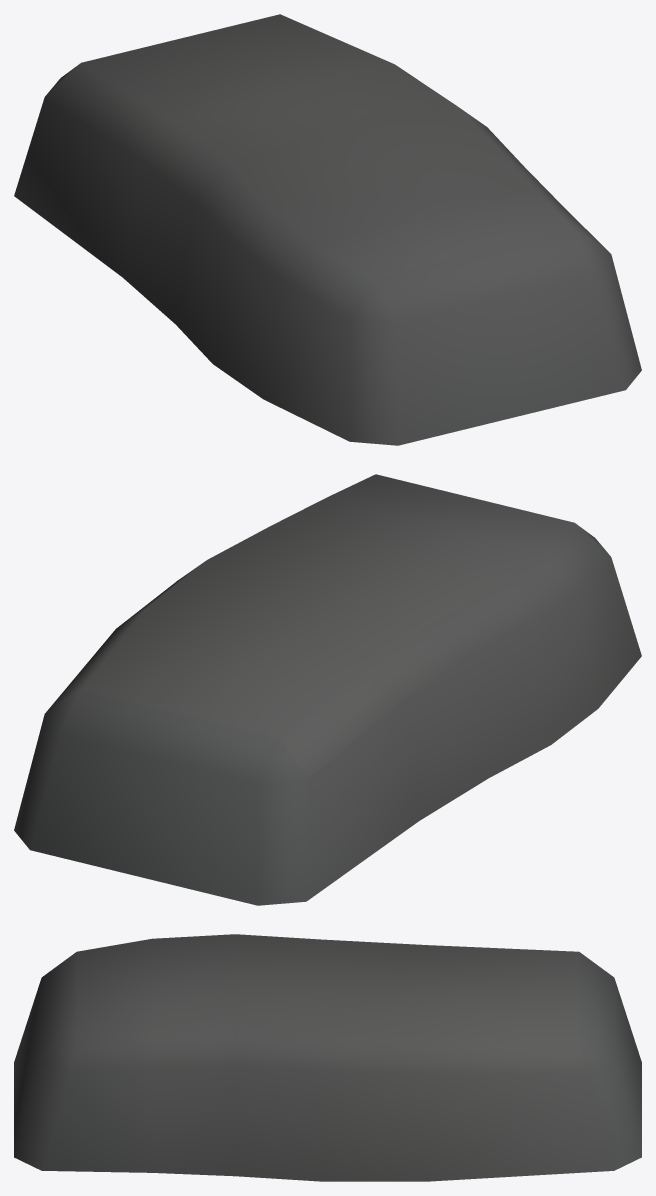
Rendered from Brick_3_1.obj.
3 renders of one model, top to bottom at view 1: azimuth 30°, elevation 25°; view 2: azimuth 150°, elevation 25°; view 3: azimuth 270°, elevation 25°, orthographic. The views are drawn at different scales.
Visible parts, largest first — view 1: Brick_3_1; view 2: Brick_3_1; view 3: Brick_3_1.
Part boxes in pixels (x1=…): Brick_3_1: x1=14, y1=14, x2=641, y2=445; Brick_3_1: x1=14, y1=474, x2=641, y2=905; Brick_3_1: x1=14, y1=934, x2=641, y2=1181.
Bounding box in the file's own units: 0.1606 × 0.0674 × 0.2997.
